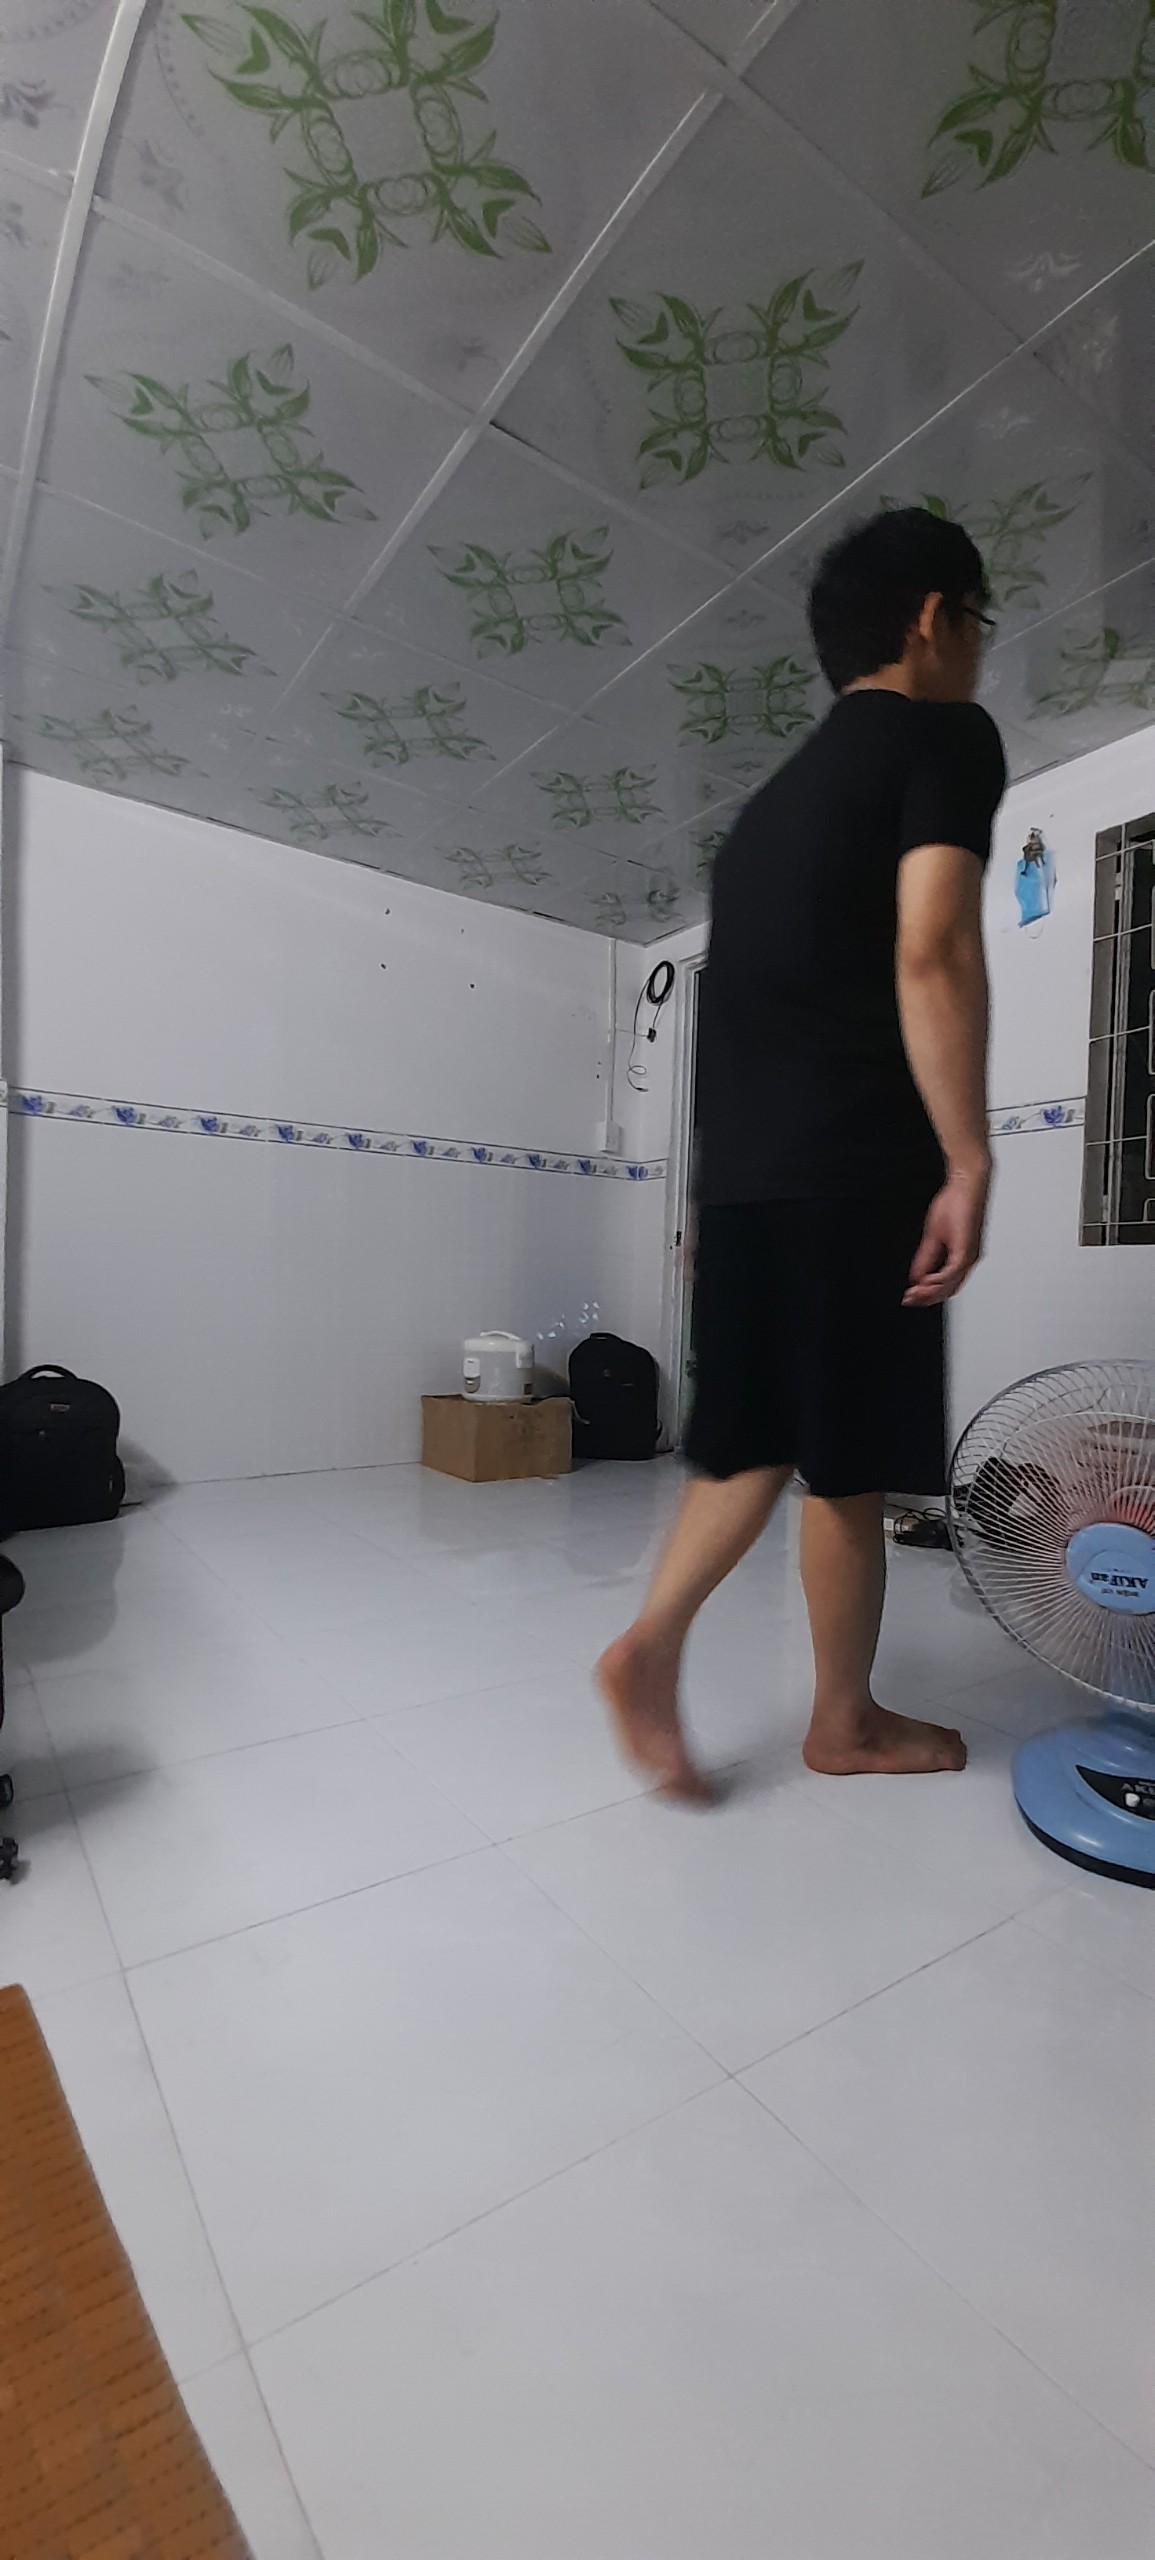person: (625, 514, 1003, 1790)
